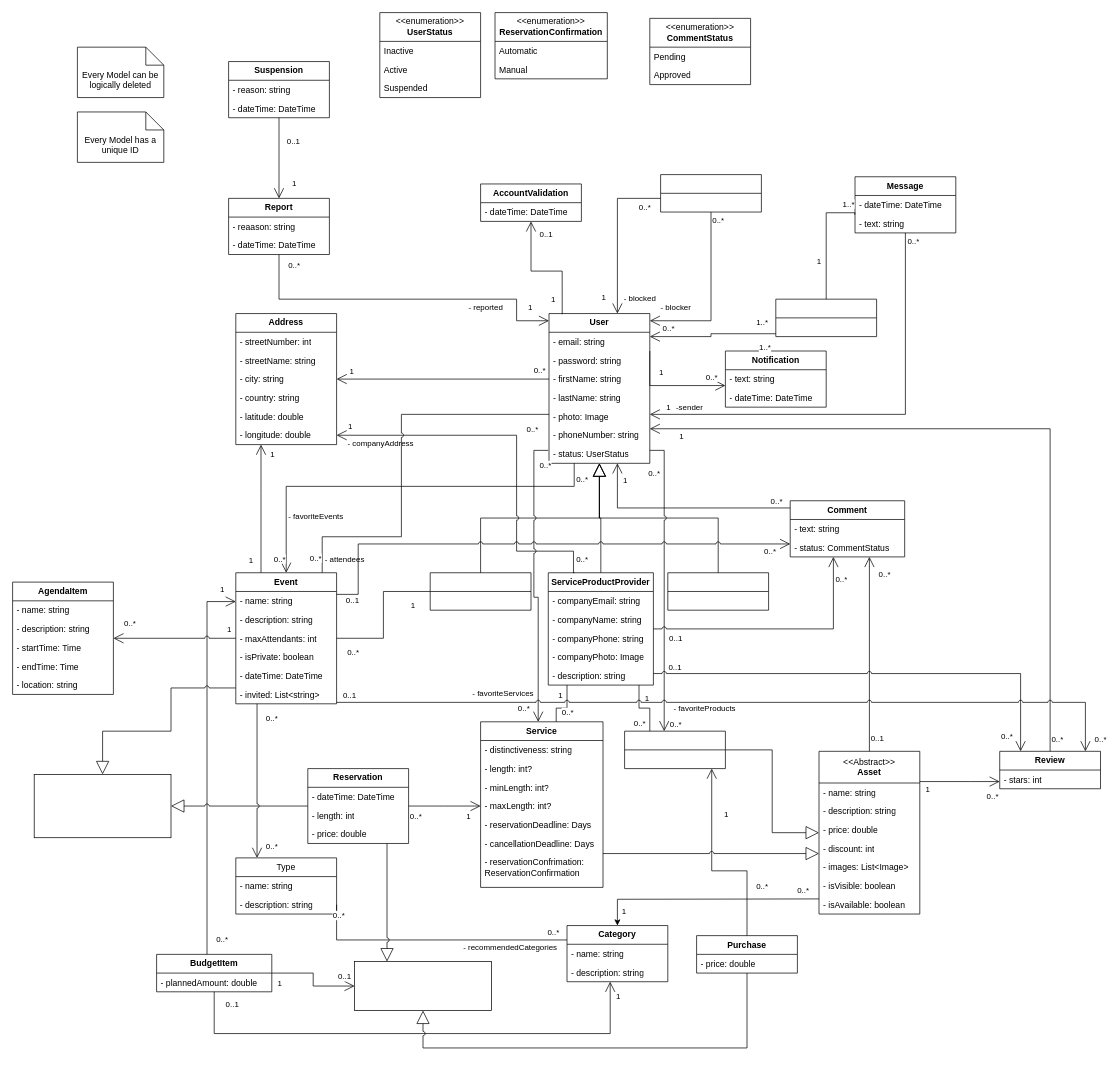
Some shapes in this 1119 by 1074 pixel diagram are drawn without their labels. The centre of each missing label's shape, as x and y in pixels:
<<Interface>> CalendarItem + display(): void: the point at 102,806
<<Interface>> ConcreteBudgetItem + details(): void: the point at 422,986
Admin: the point at 718,591
Block: the point at 710,193
Chat: the point at 826,317
EventOrganizer: the point at 480,591
Product: the point at 674,749
